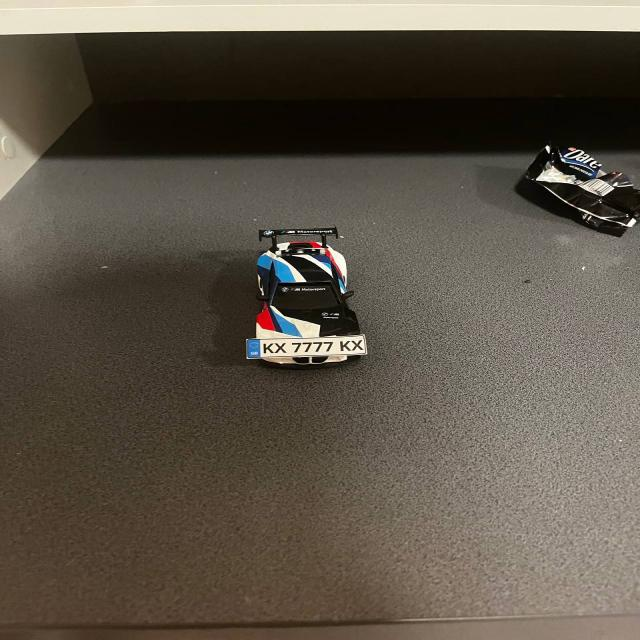cars: (245, 219, 372, 376)
